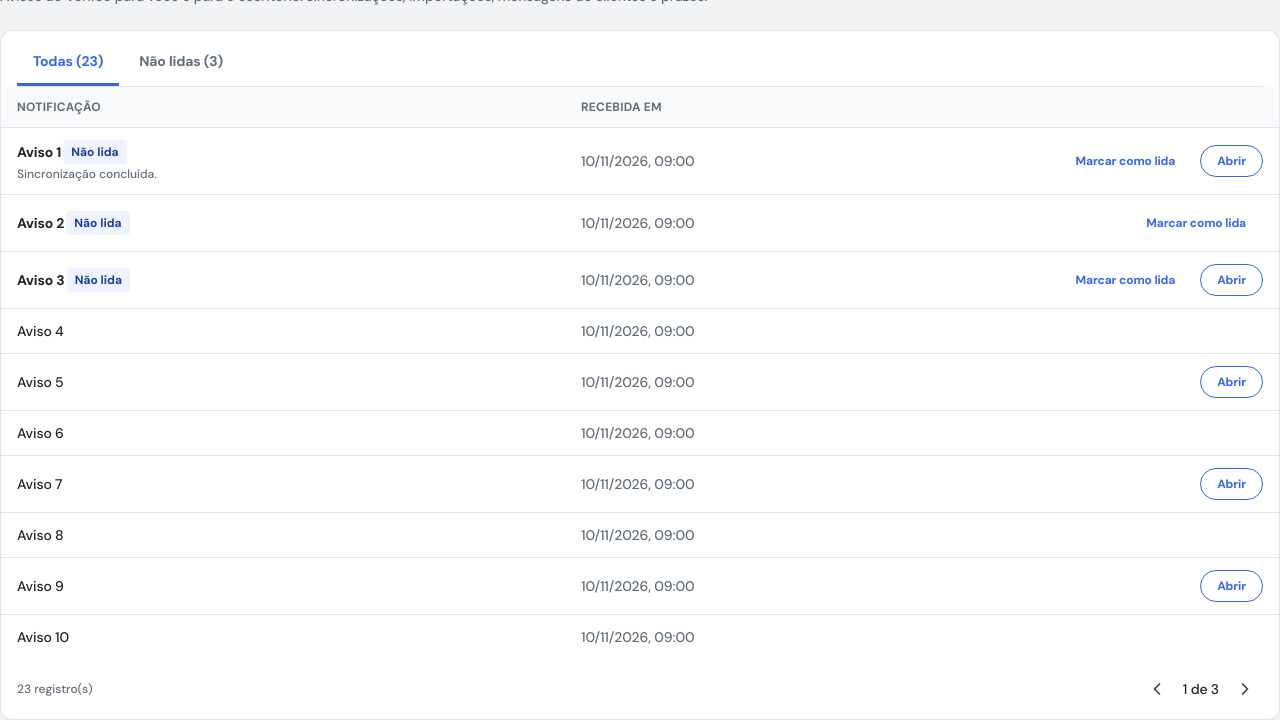
Test: página de notificações › pagina a lista e filtra as não lidas
(page scrolled)
Check: the text "Aviso 1" is shown, box [17, 142, 61, 162]
Check: the text "Sincronização concluída." is shown, box [17, 166, 157, 182]
Click the button named "Próxima página". click: (1245, 689)
box: [1227, 671, 1263, 707]
(page scrolled)
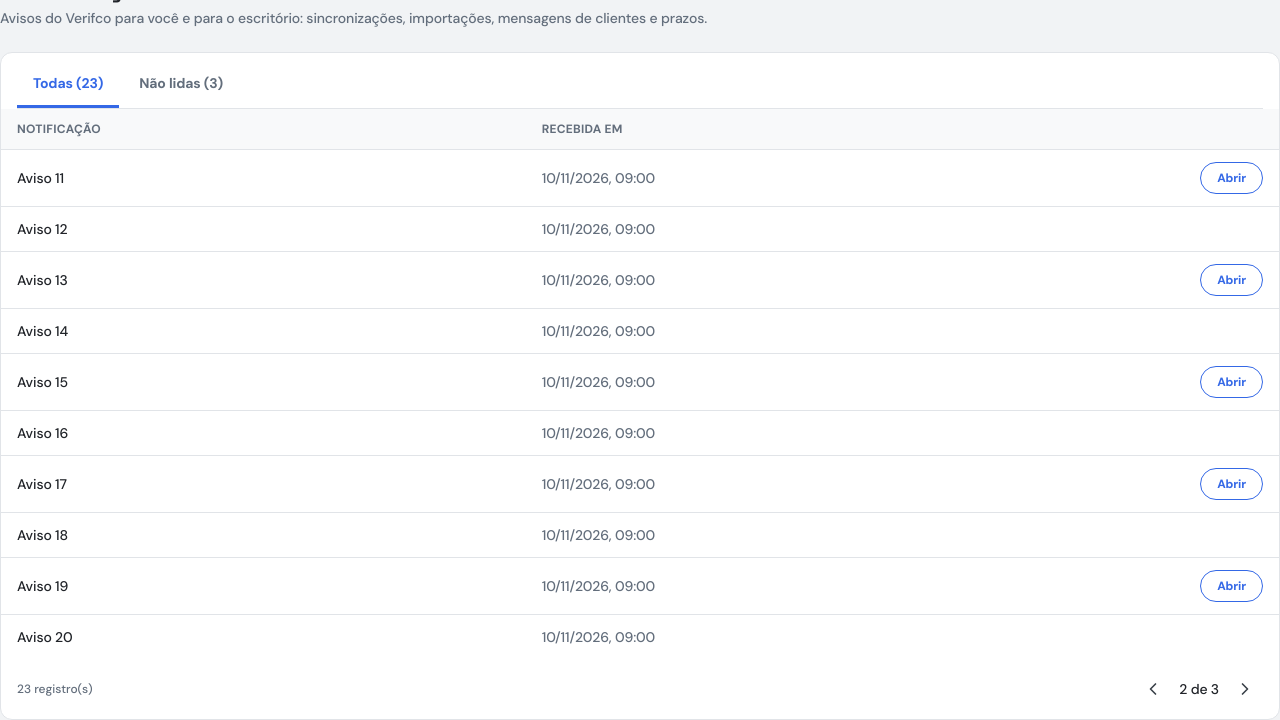
Check: the text "Aviso 11" is shown, box [17, 168, 64, 188]
Click the button named "Próxima página". click: (1245, 689)
box: [1227, 671, 1263, 707]
(page scrolled)
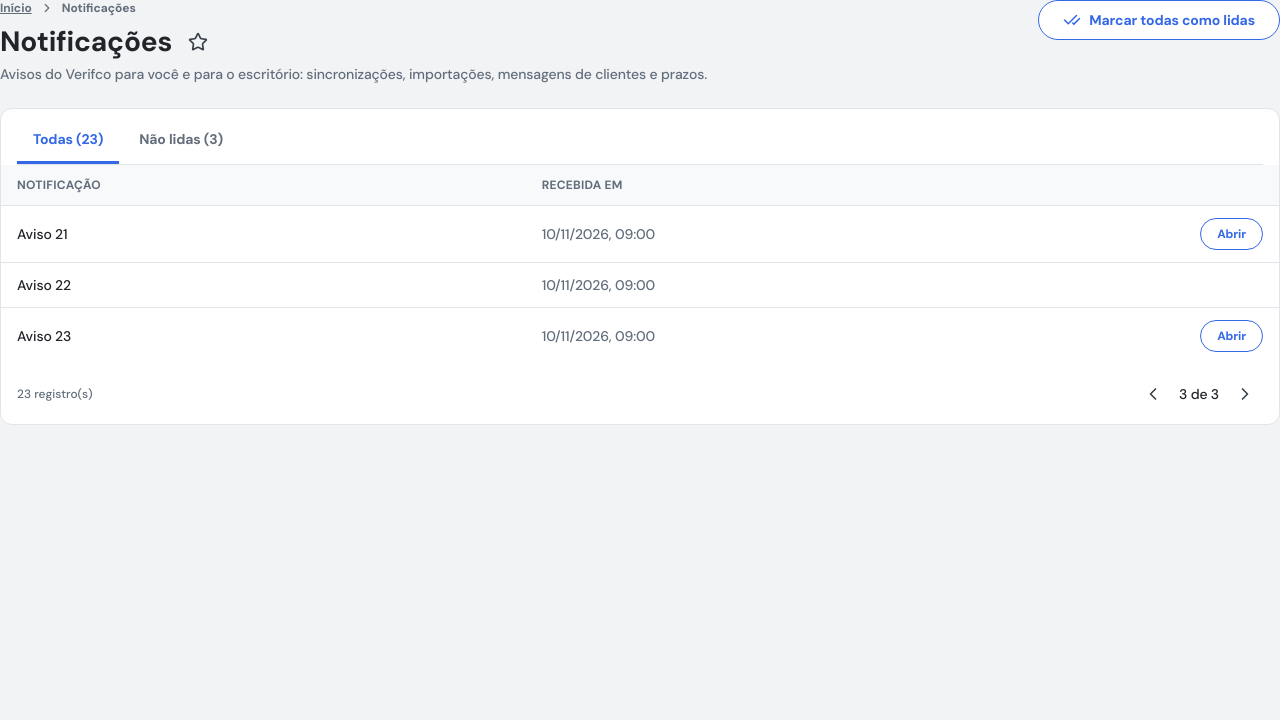
Check: the number of rows is 4, box [1, 165, 1279, 206]; [1, 206, 1279, 262]; [1, 262, 1279, 308]; [1, 308, 1279, 364]
trocar o filtro volta à primeira página
Click the tab "Não lidas (3)". click: (181, 140)
box: [123, 117, 239, 164]
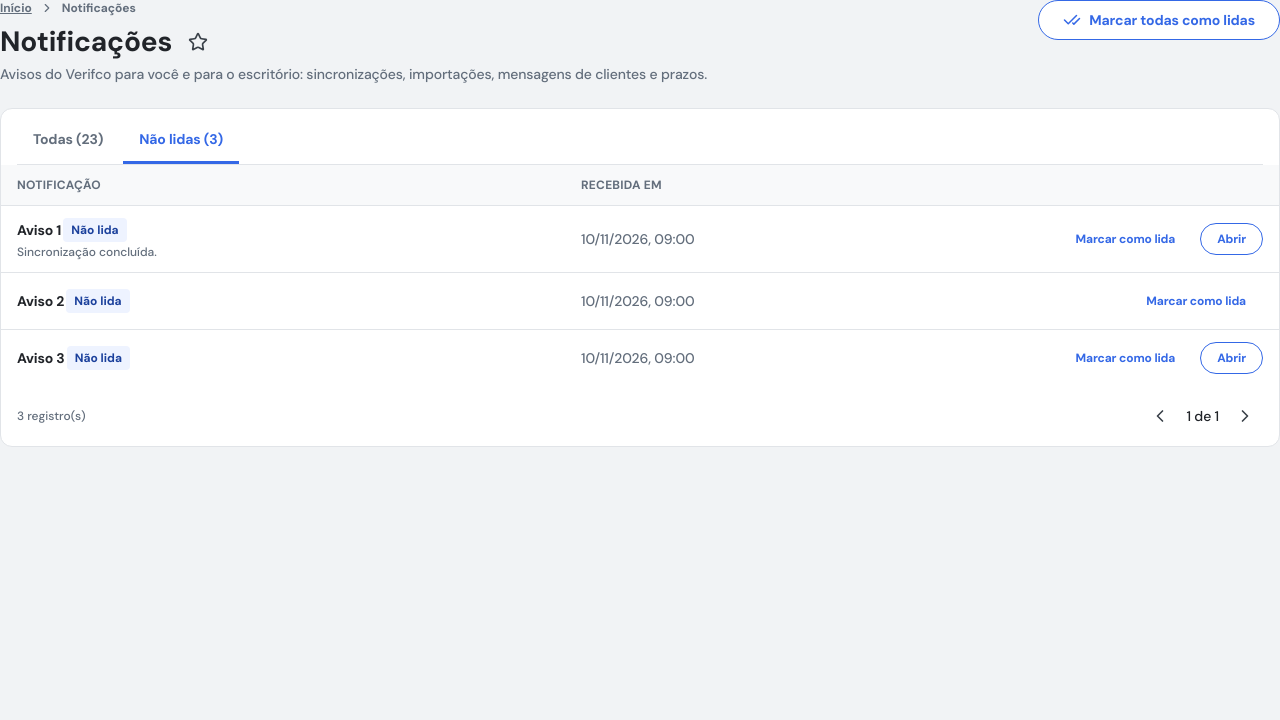
Check: the tab "Todas (23)" is shown, box [17, 117, 119, 164]
Check: the number of rows is 4, box [1, 165, 1279, 206]; [1, 206, 1279, 272]; [1, 272, 1279, 330]; [1, 330, 1279, 386]
Check: the text "1 de 1" is shown, box [1186, 406, 1219, 426]
